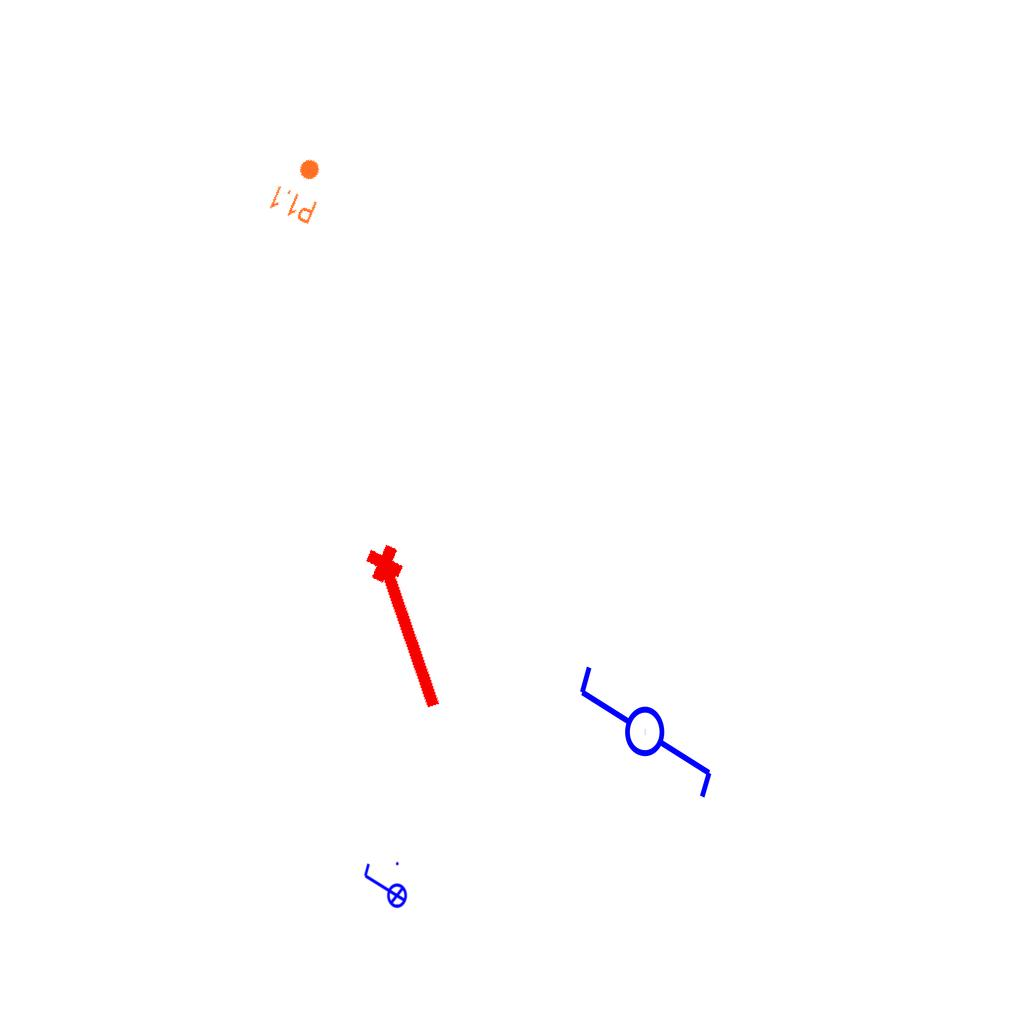ASR_Ansaugoeffnung: (358, 536, 460, 718)
Ausschalter_beleuchtet: (360, 859, 408, 915)
Downlight_LED_Einbauleuchten_Flur: (266, 149, 334, 227)
Wechselschalter: (575, 645, 719, 802)
